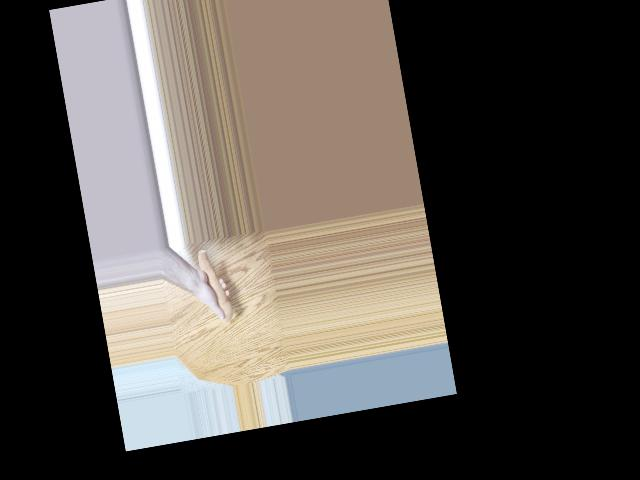sweet_potato: (195, 245, 234, 324)
